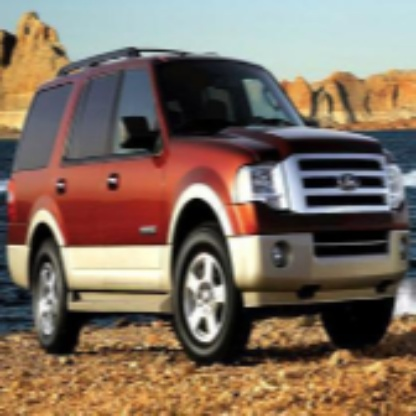Vehicle: (5, 34, 415, 368)
